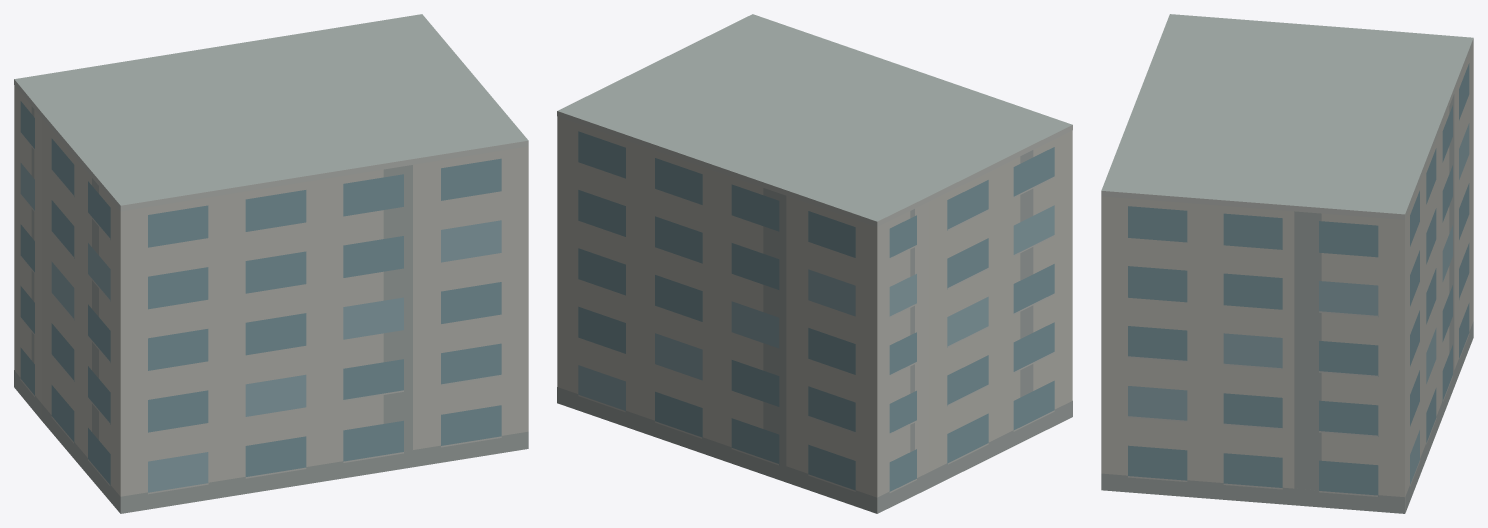
Rendered from survey-upis-32704554.glb.
3 renders of one model, left to right at view 1: azimuth 30°, elevation 25°; view 2: azimuth 150°, elevation 25°; view 3: azimuth 270°, elevation 25°, orthographic. The views are drawn at different scales.
Visible parts, largest first — view 1: survey-upis-32704554.tmp; view 2: survey-upis-32704554.tmp; view 3: survey-upis-32704554.tmp.
Boxes of the visible parts, x1,y1,x2,y2 form: survey-upis-32704554.tmp: (14, 14, 528, 513); survey-upis-32704554.tmp: (557, 14, 1072, 513); survey-upis-32704554.tmp: (1101, 14, 1473, 513).
Size of the model in its own units: 18.67 by 13 by 14.66.
